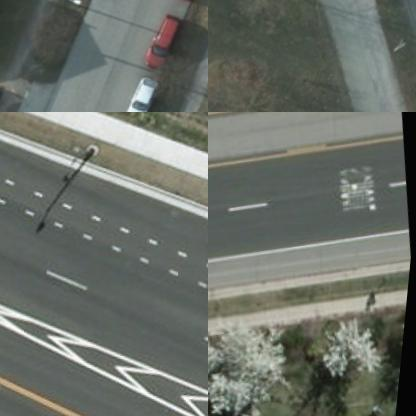car: (134, 13, 186, 74), (119, 70, 167, 111)
